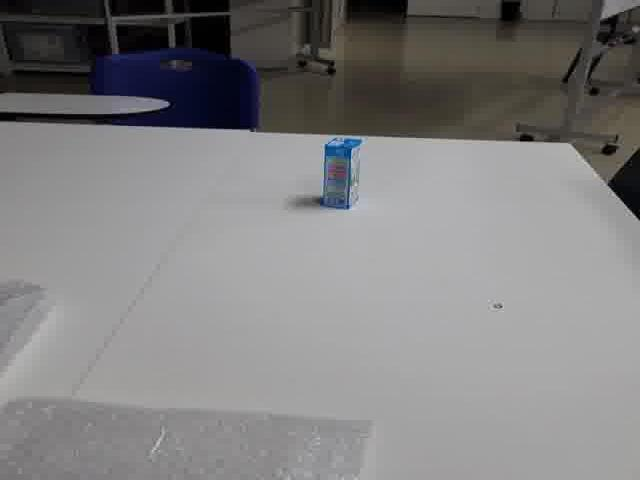drink_box: (318, 126, 367, 213)
